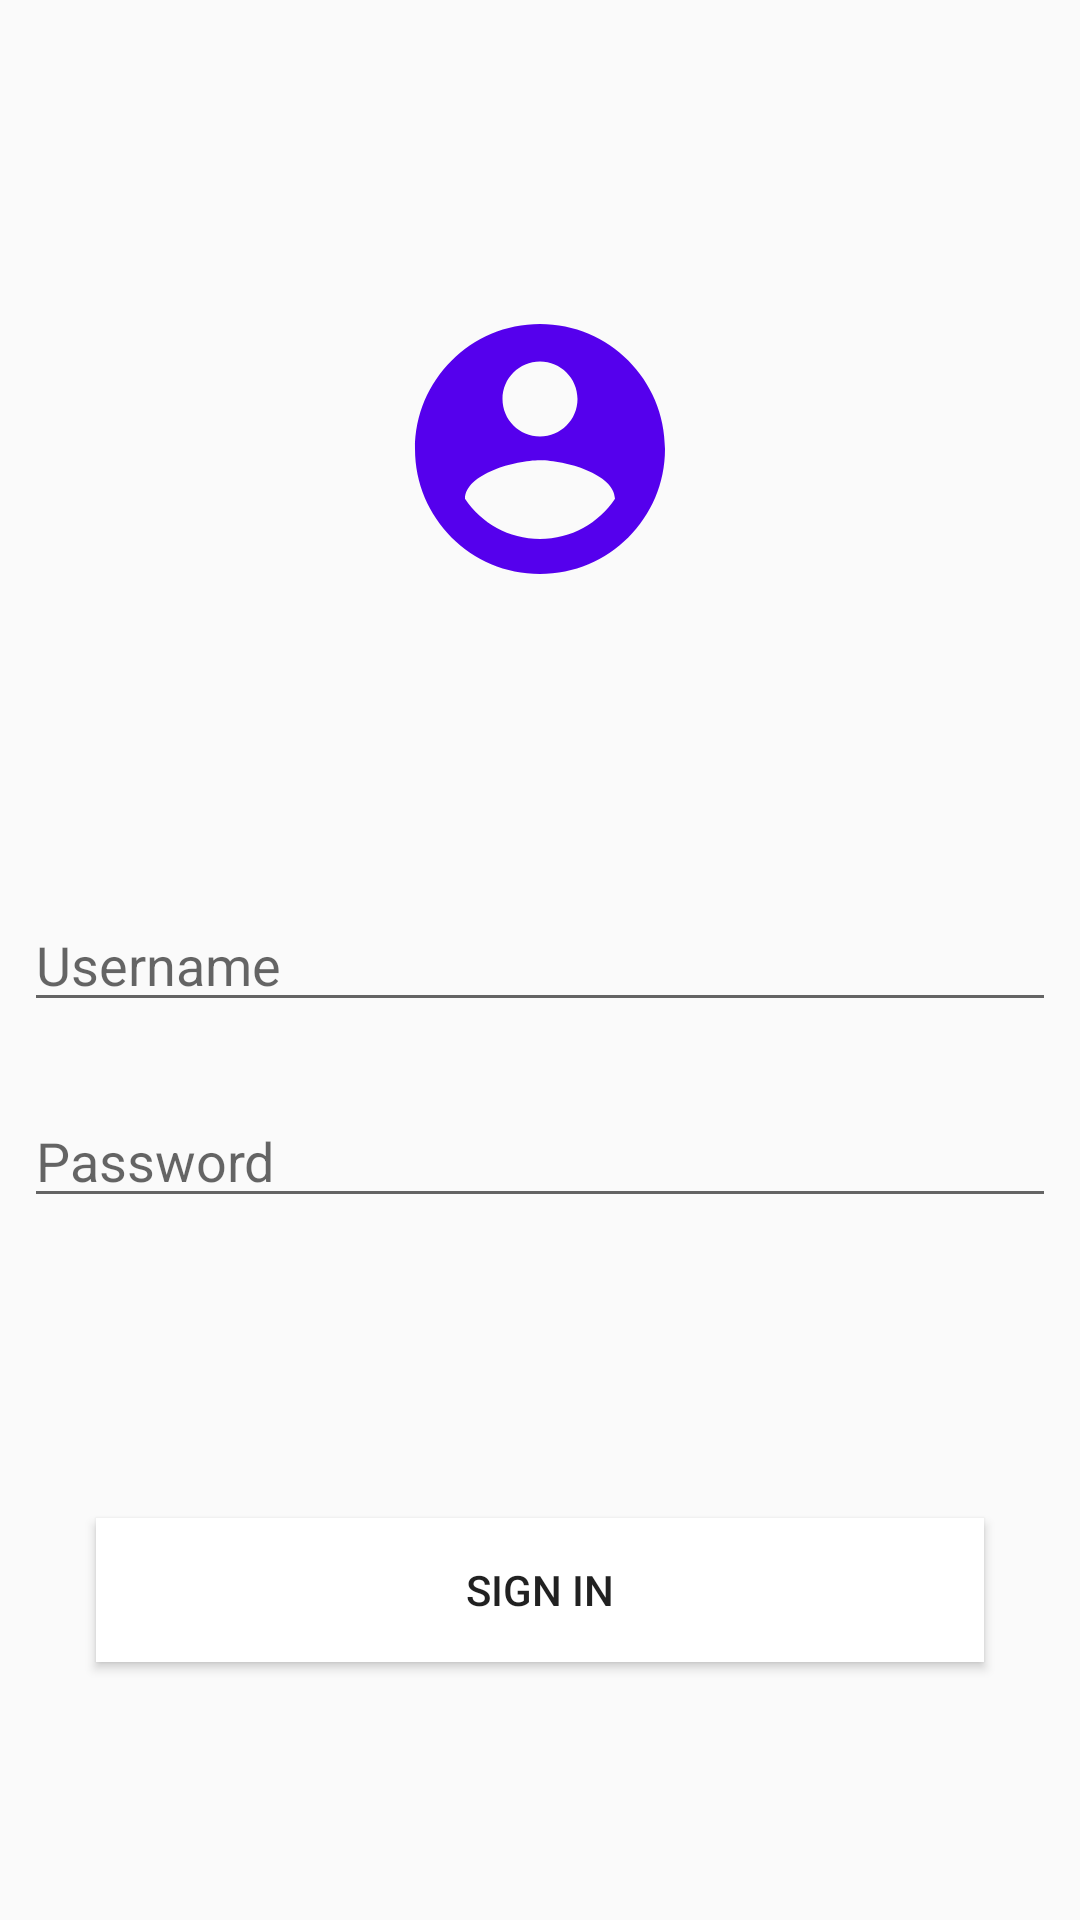

Icons on this 1080w x 1920h Android screen, each with its box as (x1, y1, x2, y2):
account circle: (415, 324, 665, 574)
